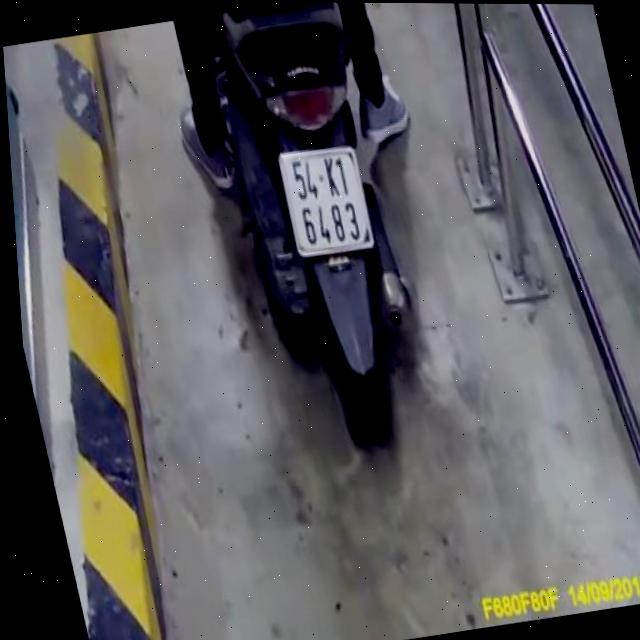motorcycle: (197, 1, 451, 462)
plate: (268, 135, 381, 267)
